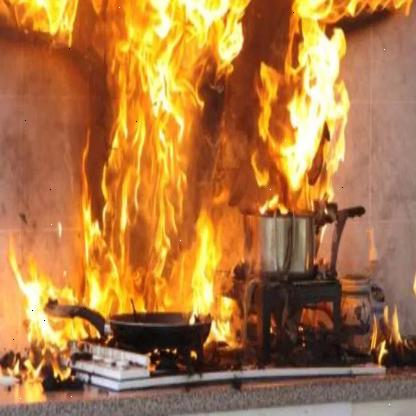fire: (0, 0, 408, 357)
